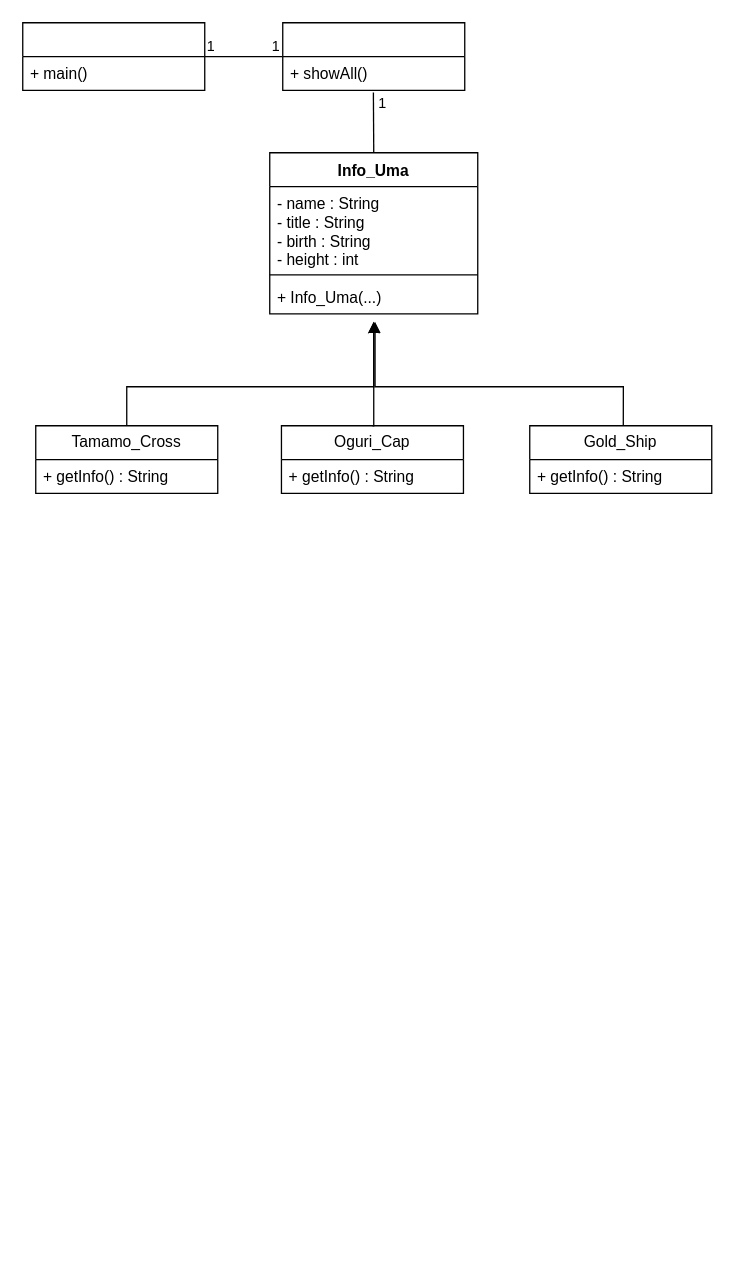
Image size: 735x1268. Some labels were removed from this diagram. Here are the shapes that lost their labels. From the top down, the box of each, then its label:
(21, 21, 205, 90): Panggil_Uma
(281, 21, 465, 90): Uma_Musume
